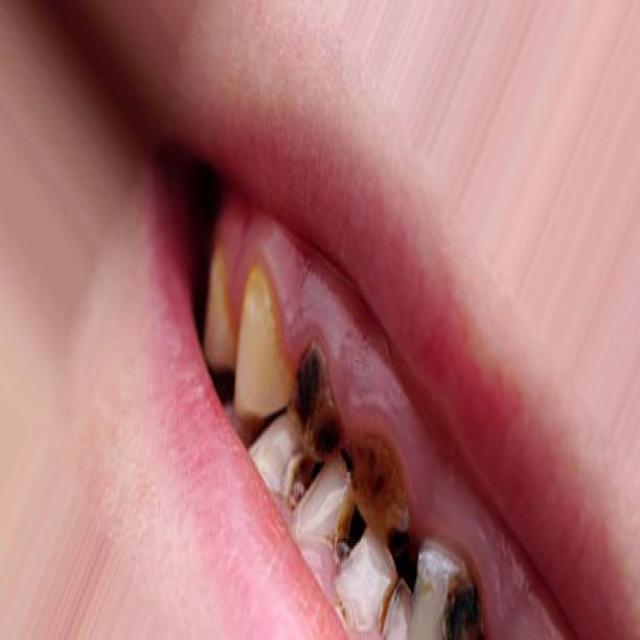caries: (348, 406, 410, 547), (288, 328, 345, 470), (424, 532, 490, 640), (330, 480, 369, 600), (284, 434, 327, 511)
